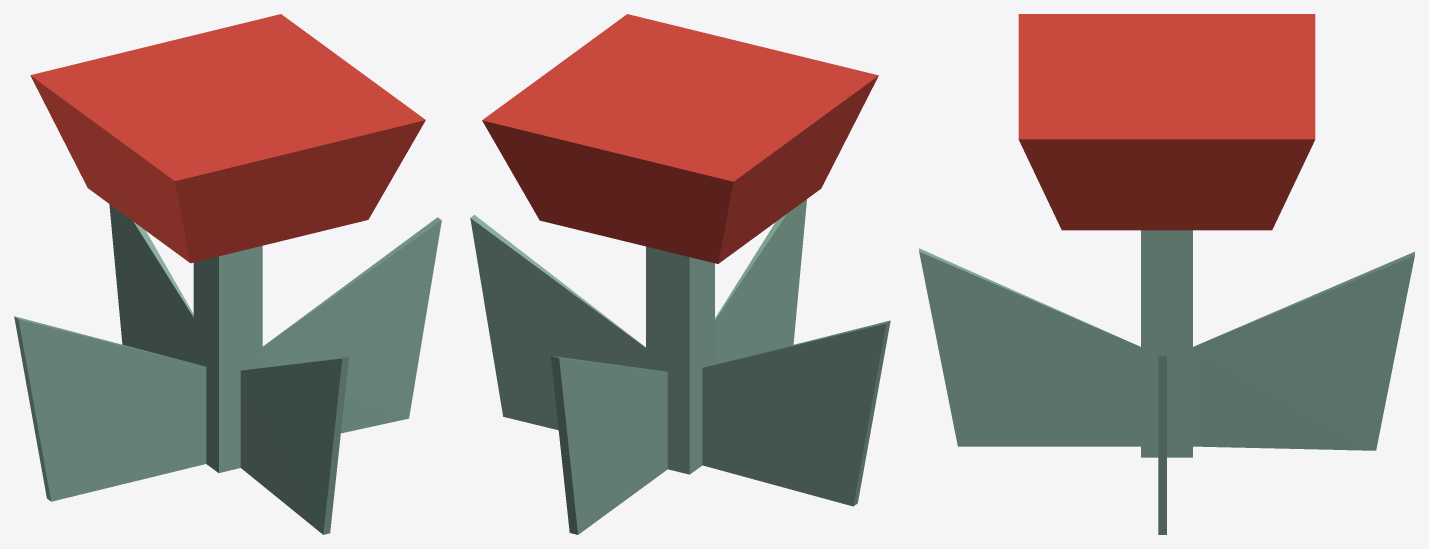
Rendered from Nature Flower 5.fbx.
3 renders of one model, left to right at view 1: azimuth 30°, elevation 25°; view 2: azimuth 150°, elevation 25°; view 3: azimuth 270°, elevation 25°, orthographic. The views are drawn at different scales.
Visible parts, largest first — view 1: Nature Flower 5; view 2: Nature Flower 5; view 3: Nature Flower 5.
Part boxes in pixels (<box>): Nature Flower 5: <box>14,14,441,534</box>; Nature Flower 5: <box>470,14,890,534</box>; Nature Flower 5: <box>919,14,1414,534</box>.
Bounding box in the file's own units: 48.6 × 40 × 48.59.
